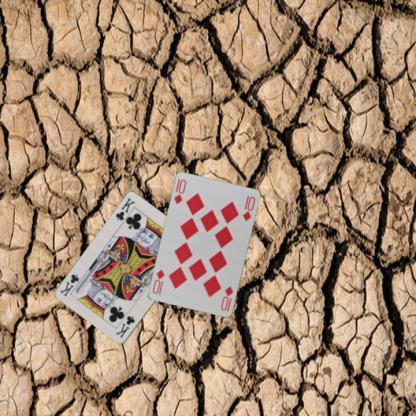10d: (172, 176, 188, 206), (218, 284, 235, 312)
Kc: (113, 196, 136, 223), (113, 314, 136, 340)
